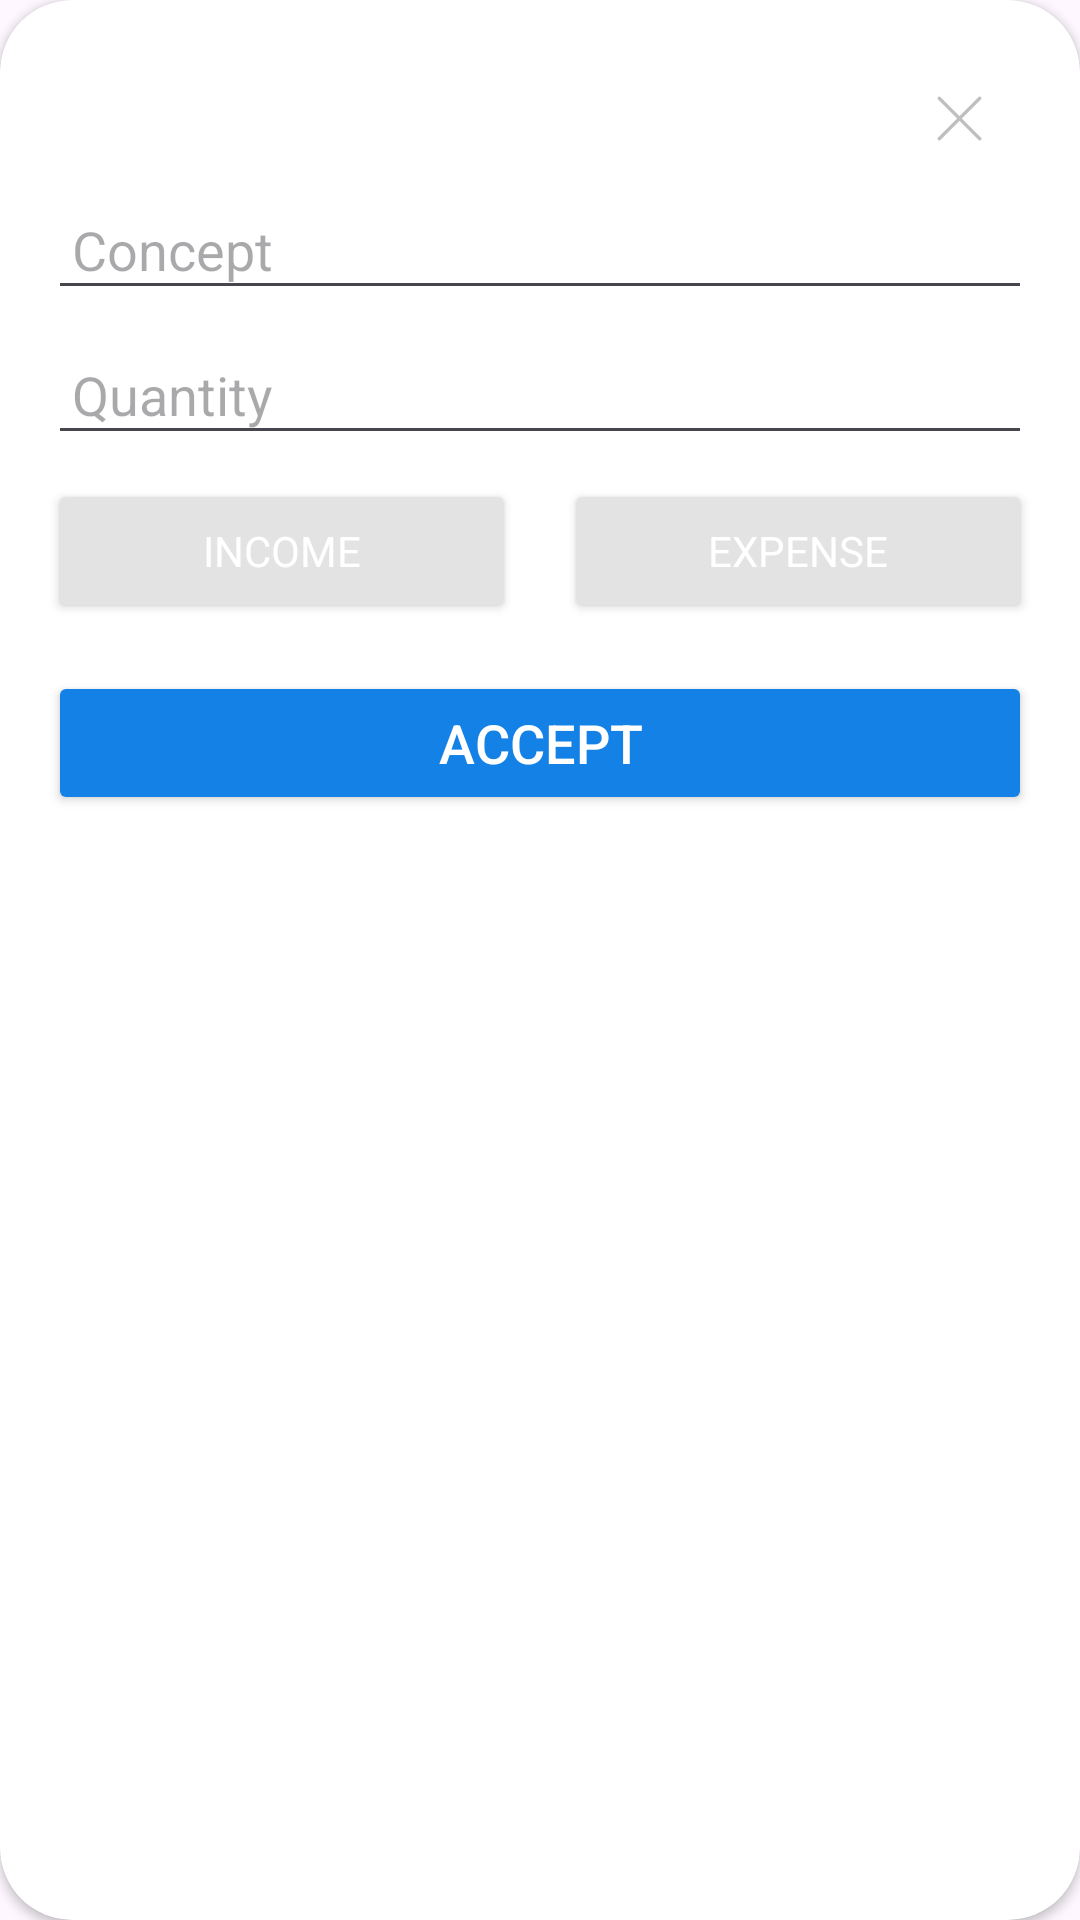

Where icons sit on this 1080 x 1920 app screen, as (x1, y1, x2, y2):
cross close: (937, 97, 982, 141)
